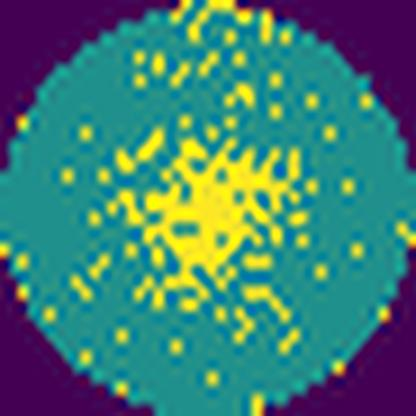Center: (141, 139, 297, 301)
